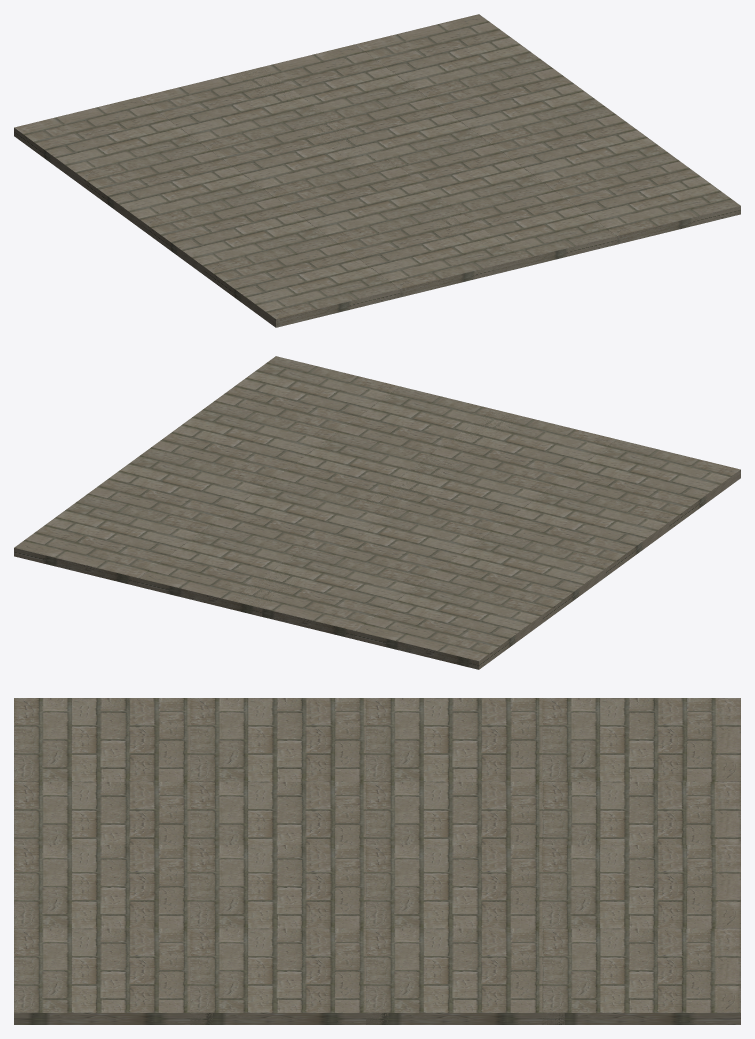
The model's file is yol.fbx.
3 renders of one model, top to bottom at view 1: azimuth 30°, elevation 25°; view 2: azimuth 150°, elevation 25°; view 3: azimuth 270°, elevation 25°, orthographic. The views are drawn at different scales.
Visible parts, largest first — view 1: Cube.005, Cube.003, Cube.008, Cube.007, Cube.014, Cube.001, Cube.002, Cube.004, Cube.015, Cube.006, Cube.009, Cube.013 (+4 smaller); view 2: Cube.003, Cube.014, Cube.001, Cube.012, Cube.005, Cube.002, Cube.004, Cube.008, Cube.015, Cube.013, Cube.009, Cube.007 (+4 smaller); view 3: Cube.014, Cube.015, Cube.008, Cube.009, Cube.003, Cube.012, Cube.002, Cube.005, Cube.010, Cube.013, Cube.004, Cube.011 (+4 smaller).
Boxes of the visible parts, left/top/right/bottom form: Cube.005: left=204, top=242, right=399, bottom=327; Cube.003: left=14, top=97, right=209, bottom=188; Cube.008: left=554, top=159, right=740, bottom=244; Cube.007: left=329, top=212, right=523, bottom=297; Cube.014: left=355, top=14, right=550, bottom=96; Cube.001: left=138, top=67, right=333, bottom=149; Cube.002: left=85, top=150, right=272, bottom=234; Cube.004: left=140, top=196, right=335, bottom=280; Cube.015: left=427, top=66, right=613, bottom=143; Cube.006: left=273, top=166, right=460, bottom=242; Cube.009: left=490, top=113, right=676, bottom=189; Cube.013: left=303, top=97, right=489, bottom=173; Cube.003: left=355, top=578, right=549, bottom=669; Cube.014: left=14, top=495, right=208, bottom=586; Cube.001: left=234, top=548, right=426, bottom=639; Cube.012: left=138, top=526, right=301, bottom=616; Cube.005: left=553, top=439, right=740, bottom=530; Cube.002: left=427, top=532, right=613, bottom=622; Cube.004: left=490, top=486, right=676, bottom=576; Cube.008: left=213, top=356, right=399, bottom=432; Cube.015: left=86, top=449, right=272, bottom=525; Cube.013: left=210, top=479, right=396, bottom=555; Cube.009: left=149, top=402, right=335, bottom=478; Cube.007: left=429, top=409, right=616, bottom=485; Cube.014: left=542, top=929, right=740, bottom=1024; Cube.015: left=366, top=929, right=564, bottom=1024; Cube.008: left=14, top=929, right=212, bottom=1024; Cube.009: left=190, top=929, right=388, bottom=1024; Cube.003: left=542, top=698, right=740, bottom=781; Cube.012: left=542, top=845, right=740, bottom=928; Cube.002: left=366, top=698, right=542, bottom=781; Cube.005: left=14, top=698, right=190, bottom=781; Cube.010: left=14, top=845, right=190, bottom=928; Cube.013: left=366, top=845, right=542, bottom=928; Cube.004: left=190, top=698, right=365, bottom=781; Cube.011: left=190, top=845, right=365, bottom=928.
Bounding box in the file's own units: 750 × 13.23 × 731.
